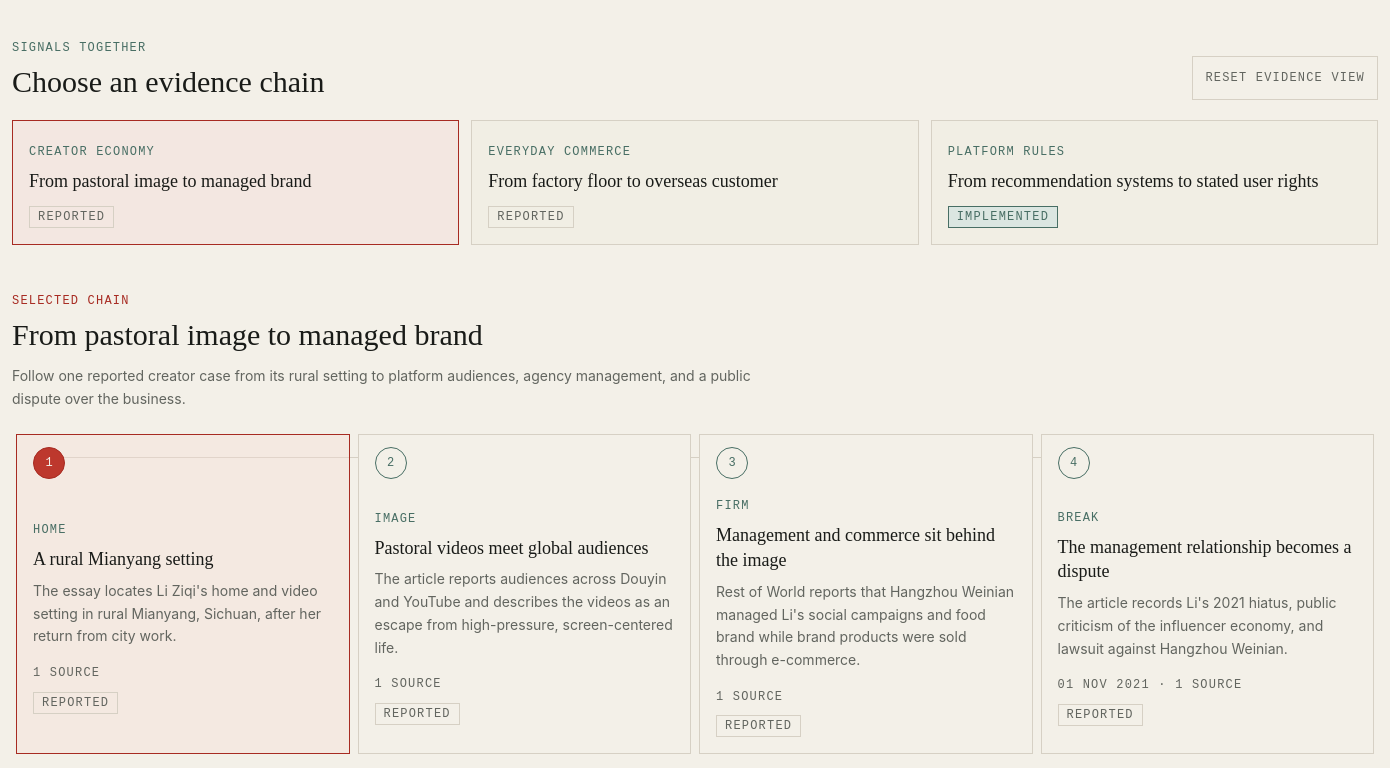
AtlasExplorer › renders the culture case with source-backed relations and no invented series
Expected: the heading "From pastoral image to managed brand" is shown, left=12, top=318, right=483, bottom=351
Click the button "Management and commerce" at (866, 594), box left=699, top=434, right=1032, bottom=754
(page scrolled)
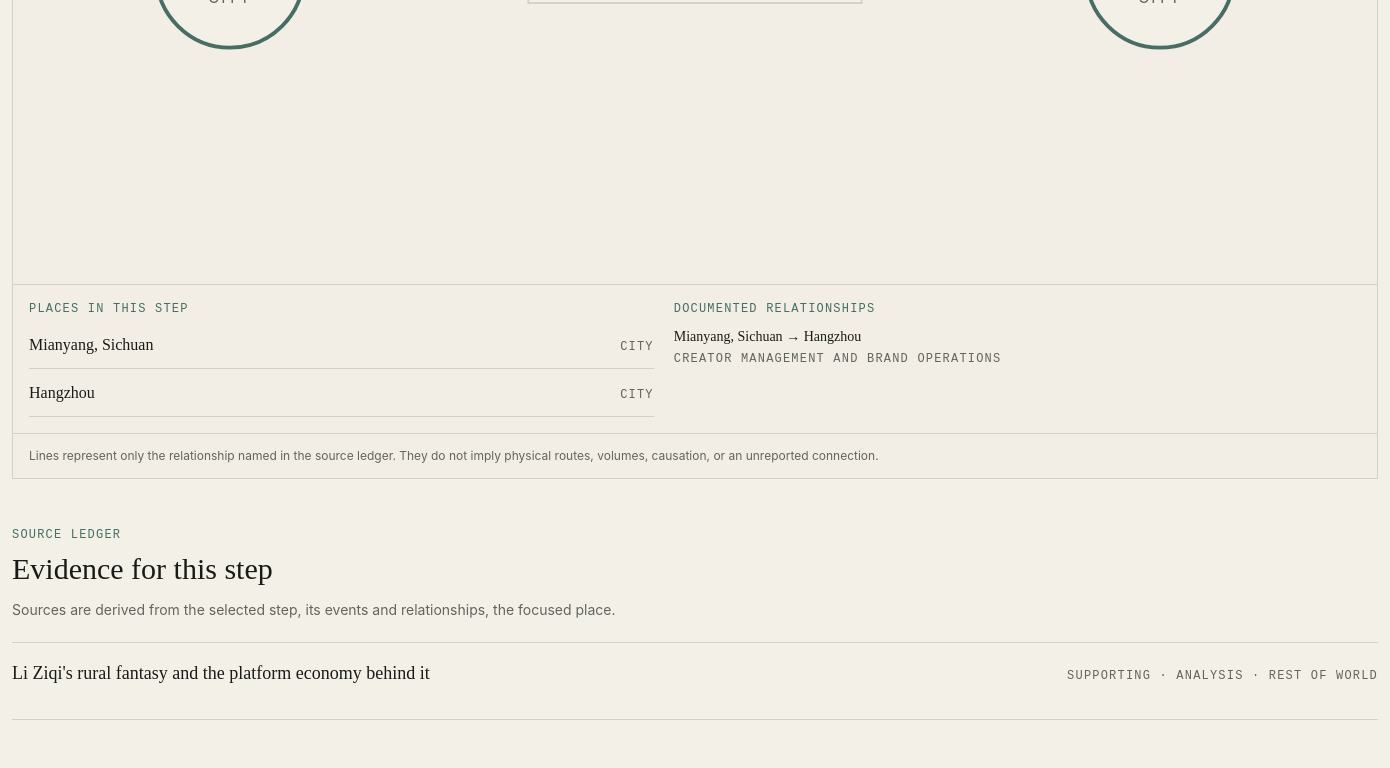
Expected: the text "Li Ziqi's rural fantasy and the platform economy behind it" is shown, left=12, top=658, right=430, bottom=686
Expected: the text "creator management and brand operations" is shown 2 times
